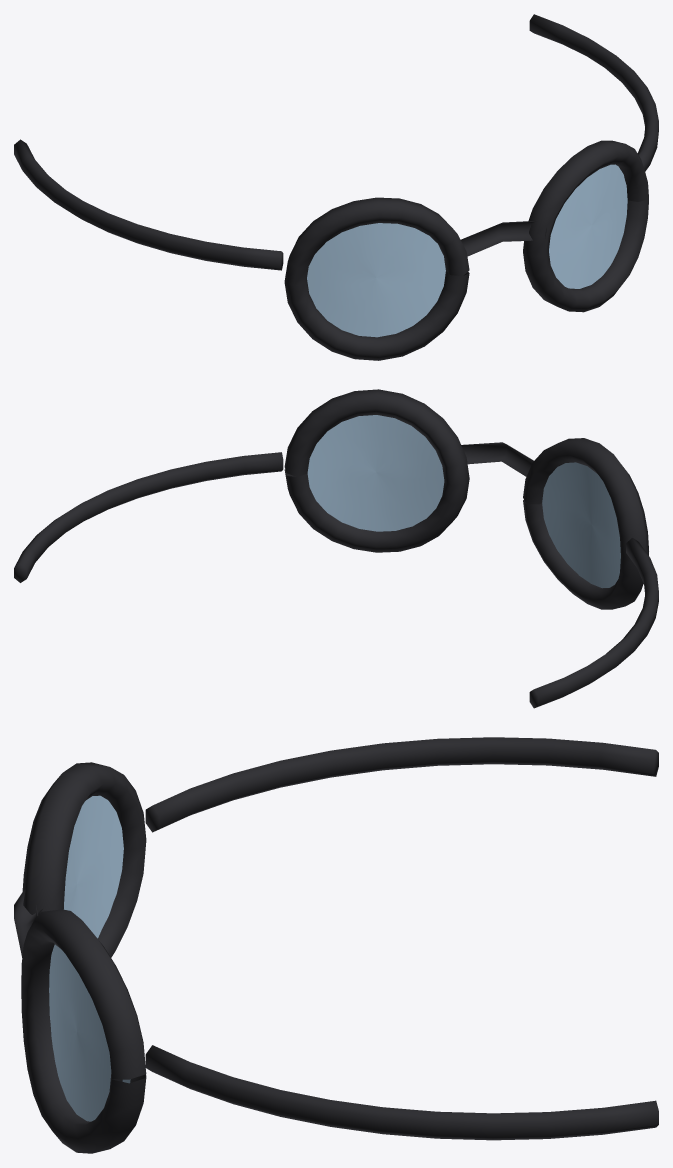
The model's file is gl_round.glb.
3 renders of one model, top to bottom at view 1: azimuth 30°, elevation 25°; view 2: azimuth 150°, elevation 25°; view 3: azimuth 270°, elevation 25°, orthographic. The views are drawn at different scales.
Visible parts, largest first — view 1: gl_round_q; view 2: gl_round_q; view 3: gl_round_q.
Boxes of the visible parts, <box> form: gl_round_q: <box>14,14,658,360</box>; gl_round_q: <box>14,389,658,708</box>; gl_round_q: <box>14,737,658,1153</box>.
Size of the model in its own units: 2.13 by 0.5693 by 1.51.
